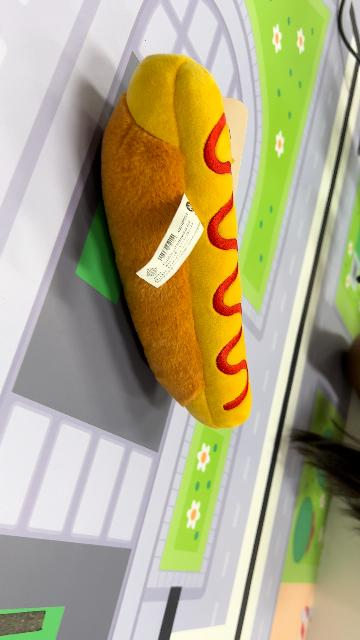hotdog: (100, 53, 254, 431)
